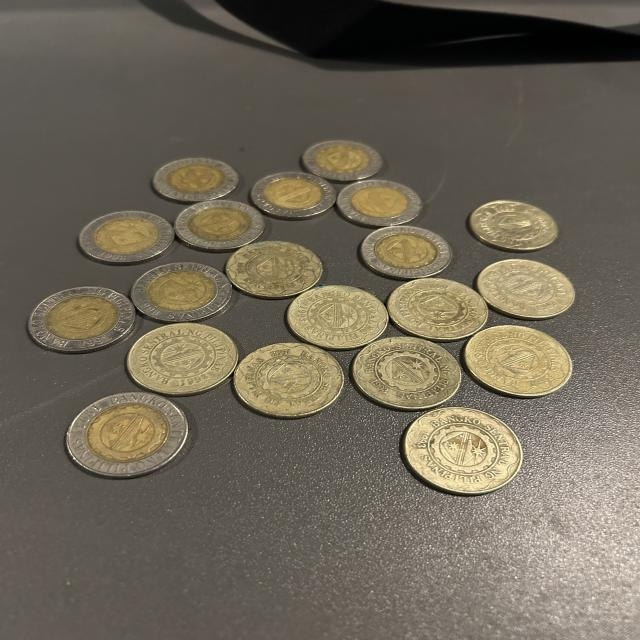10_Old_Back: (62, 391, 190, 479), (28, 285, 134, 350), (127, 261, 233, 322), (358, 225, 449, 280)
5_Old_Back: (401, 407, 522, 494), (128, 321, 240, 395), (288, 282, 384, 347)
